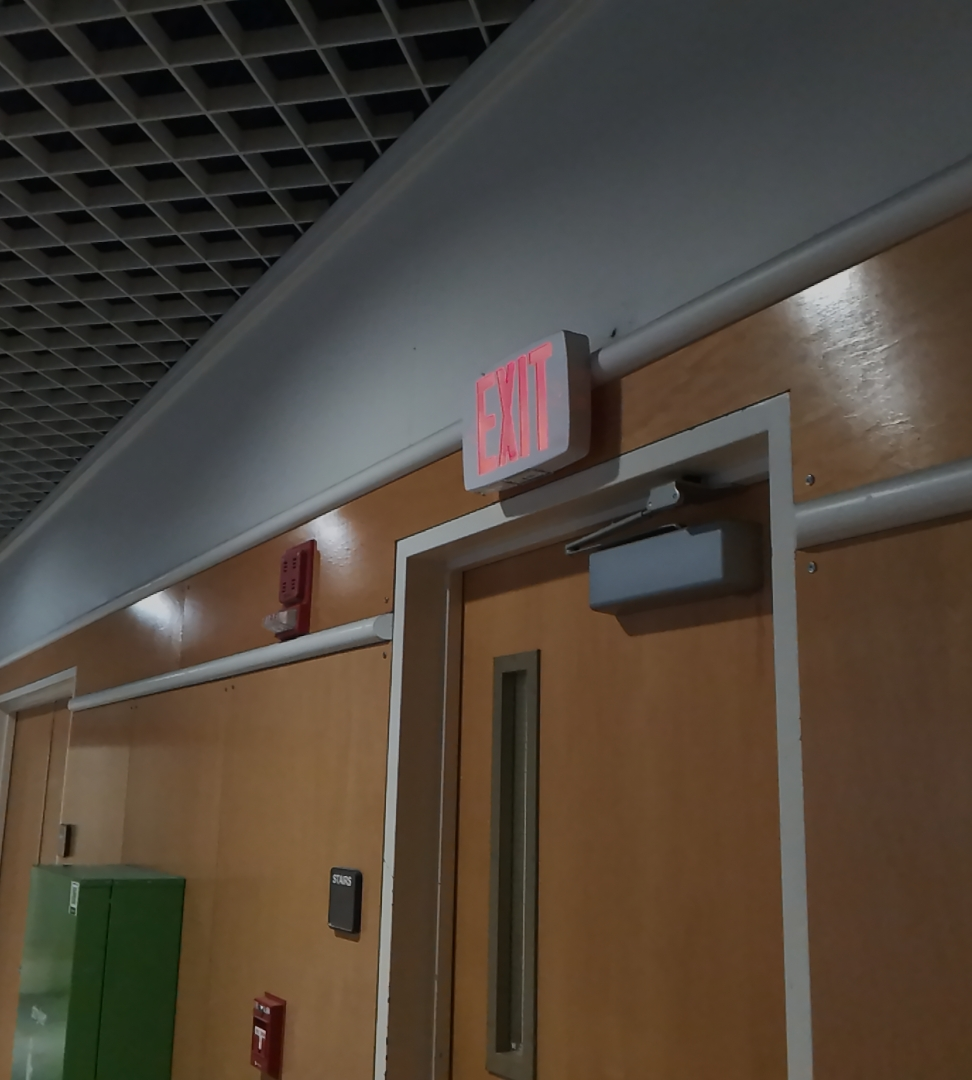emergency_exit: (459, 327, 593, 494)
